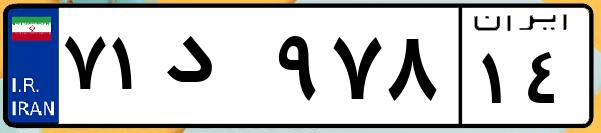1: (475, 38, 525, 113), (110, 28, 158, 98)
4: (525, 38, 570, 115)
7: (330, 28, 385, 110), (57, 26, 110, 100)
8: (385, 28, 445, 110)
9: (270, 28, 330, 110)
د: (158, 20, 270, 120)
